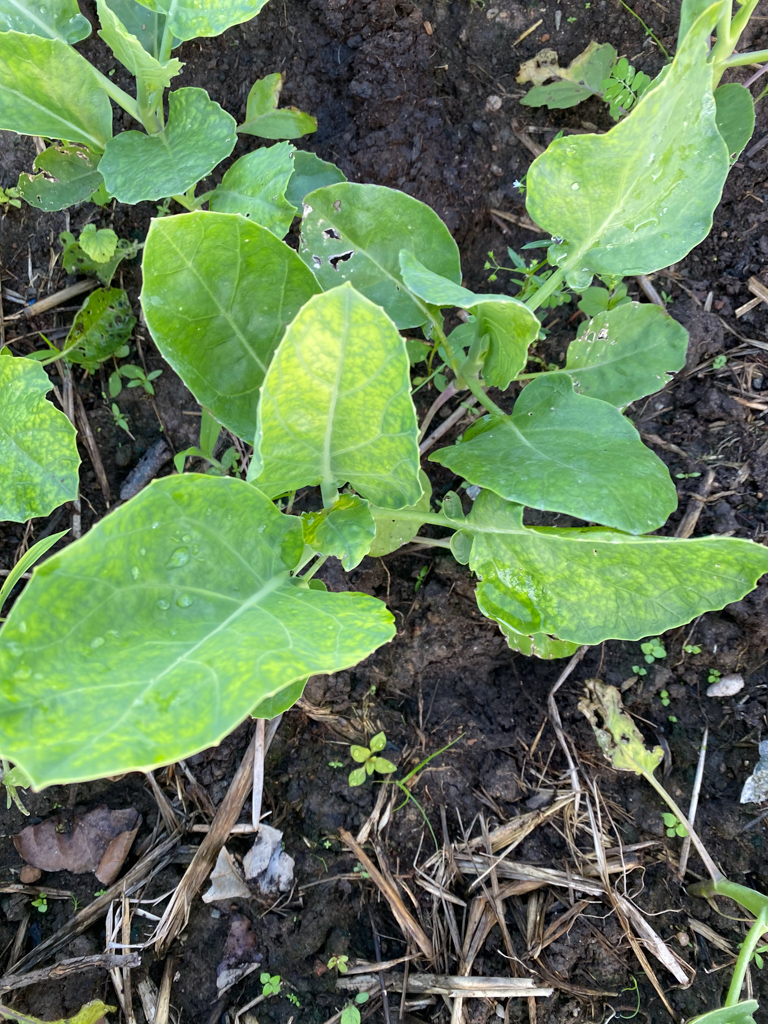Pepper yellow leaf: (256, 299, 381, 467)
